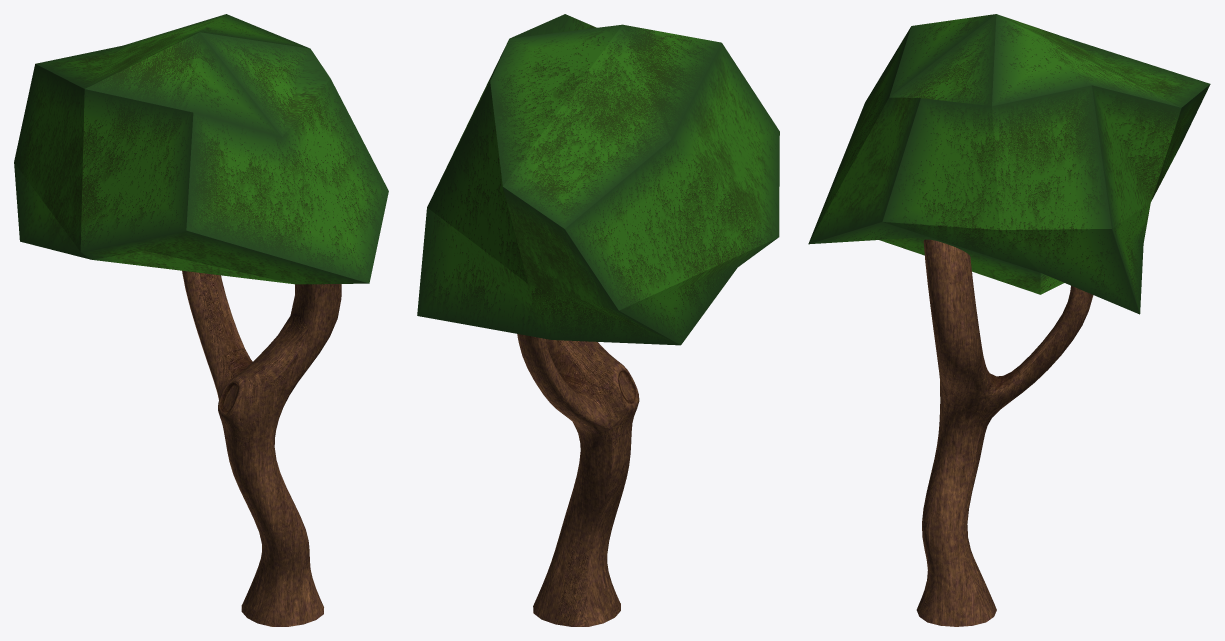
The model's file is treeC.glb.
3 views of the same model, side by side, from view 1: azimuth 30°, elevation 25°; view 2: azimuth 150°, elevation 25°; view 3: azimuth 270°, elevation 25° (orthographic). The views are drawn at different scales.
Parts seen in each view (by area): view 1: leaf3, tree3; view 2: leaf3, tree3; view 3: leaf3, tree3.
Boxes of the visible parts, x1,y1,x2,y2 form: leaf3: (14, 14, 388, 284); tree3: (182, 270, 341, 626); leaf3: (417, 14, 779, 345); tree3: (517, 334, 639, 626); leaf3: (808, 14, 1210, 314); tree3: (916, 239, 1093, 626).
Bounding box in the file's own units: 3.34 × 6.85 × 4.41.
Materials: 2 (2 with a texture image).
